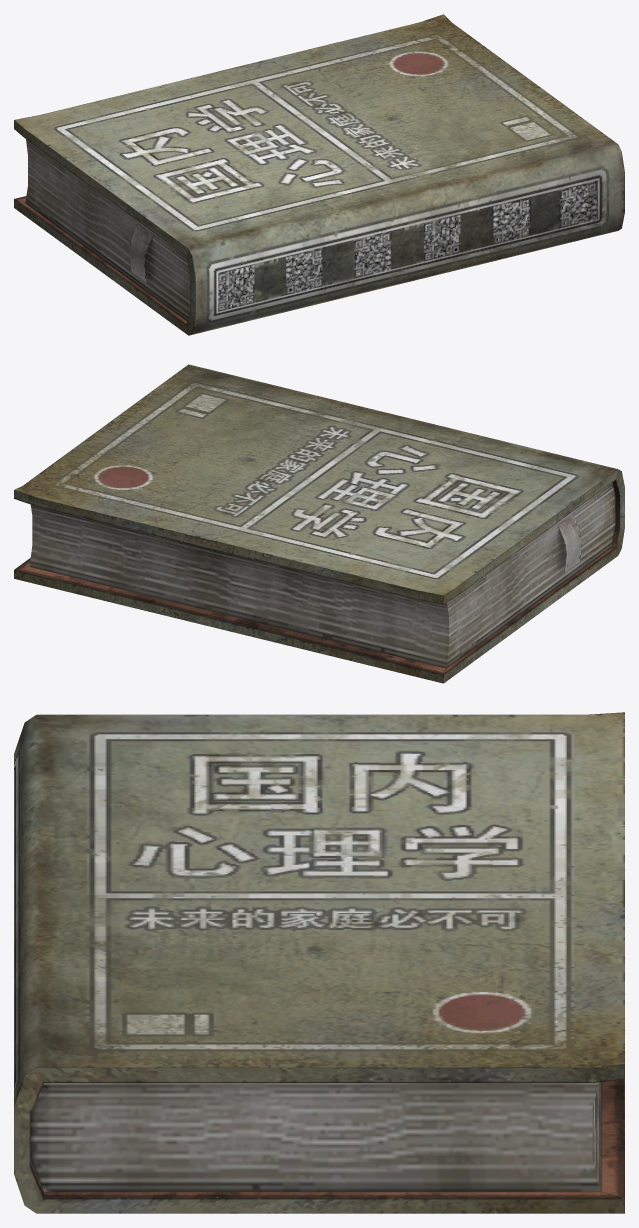
The model's file is book_medium_light_gray.dae.
3 renders of one model, top to bottom at view 1: azimuth 30°, elevation 25°; view 2: azimuth 150°, elevation 25°; view 3: azimuth 270°, elevation 25°, orthographic. The views are drawn at different scales.
Visible parts, largest first — view 1: Mesh; view 2: Mesh; view 3: Mesh.
Part boxes in pixels (left/top/right/bottom): Mesh: left=14, top=14, right=624, bottom=335; Mesh: left=14, top=364, right=624, bottom=683; Mesh: left=14, top=712, right=624, bottom=1213.
Size of the model in its own units: 0.4189 by 0.082 by 0.3034.
